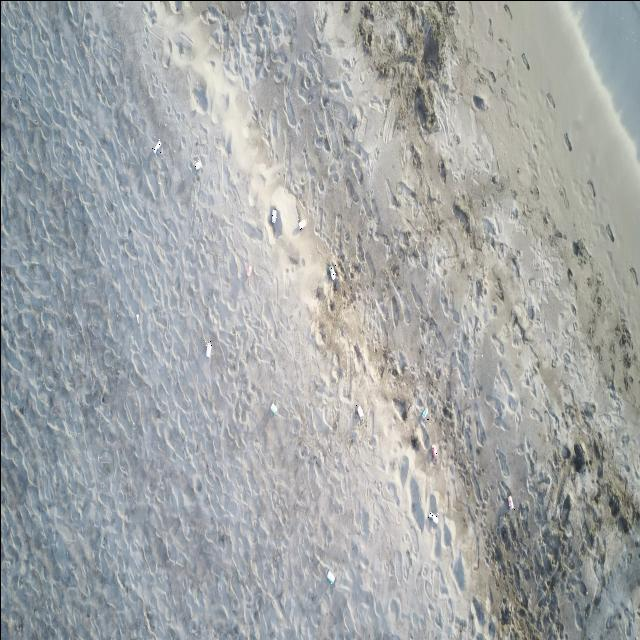Garbage: (355, 404, 363, 420), (270, 207, 278, 223), (151, 140, 160, 154), (327, 569, 335, 584), (192, 159, 201, 171), (244, 263, 252, 276), (329, 264, 335, 280), (427, 512, 435, 524), (207, 340, 212, 357), (420, 407, 427, 419), (431, 444, 436, 460), (507, 495, 513, 508), (270, 403, 276, 415), (299, 220, 306, 230), (136, 313, 139, 323)
